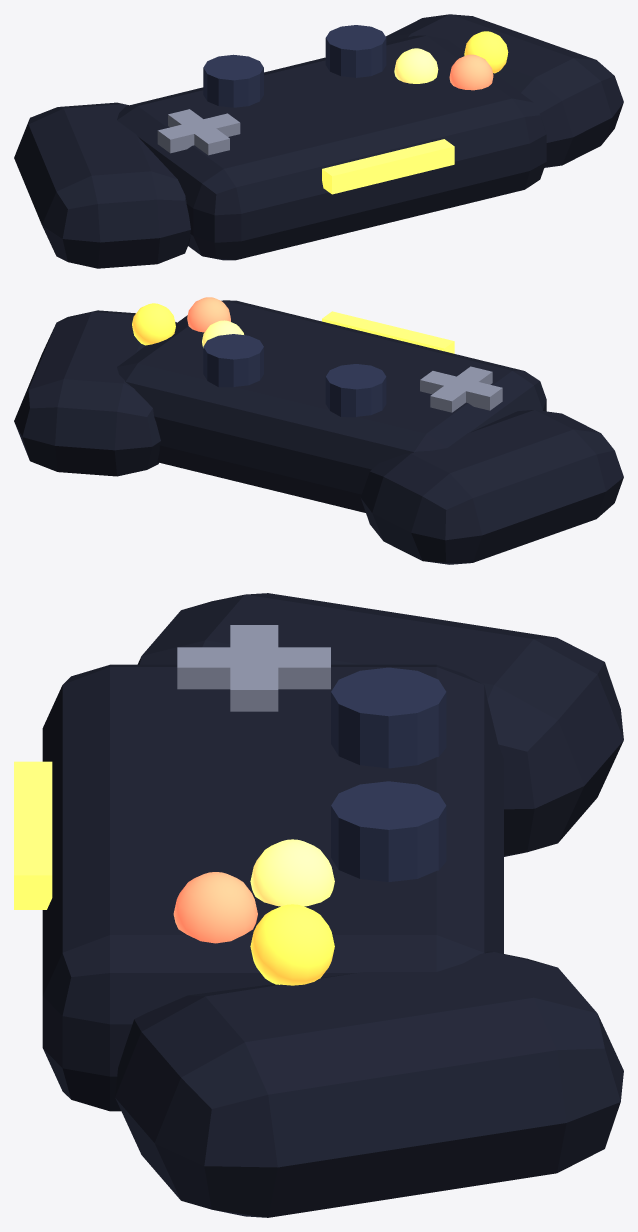
File: game_controller.glb
3 views of the same model, one above another, from view 1: azimuth 30°, elevation 25°; view 2: azimuth 150°, elevation 25°; view 3: azimuth 270°, elevation 25° (orthographic). The views are drawn at different scales.
Parts seen in each view (by area): view 1: body, grip-1, grip1, lightbar, stick1, stick-1, dpadH, dpadV, btnC, btnA, btnB; view 2: body, grip-1, grip1, stick-1, stick1, lightbar, dpadH, btnB, dpadV, btnA, btnC; view 3: body, grip1, grip-1, stick-1, stick1, lightbar, btnB, dpadV, btnA, btnC, dpadH.
Part boxes in pixels (box(x1,y1,x2,y2)): body: box(117, 35, 546, 260); grip-1: box(14, 102, 190, 268); grip1: box(385, 14, 623, 167); lightbar: box(322, 139, 454, 194); stick1: box(325, 25, 386, 77); stick-1: box(203, 54, 263, 107); dpadH: box(157, 113, 240, 153); dpadV: box(168, 109, 229, 155); btnC: box(394, 48, 438, 83); btnA: box(449, 54, 493, 90); btnB: box(464, 31, 508, 73); body: box(117, 300, 546, 512); grip-1: box(360, 410, 623, 564); grip1: box(14, 310, 176, 476); stick-1: box(325, 364, 386, 417); stick1: box(203, 334, 263, 387); lightbar: box(322, 311, 454, 353); dpadH: box(420, 371, 502, 410); btnB: box(132, 303, 175, 345); dpadV: box(430, 366, 492, 412); btnA: box(187, 297, 230, 332); btnC: box(202, 320, 243, 347); body: box(42, 664, 503, 1111); grip1: box(115, 951, 623, 1217); grip-1: box(137, 593, 623, 856); stick-1: box(331, 667, 446, 768); stick1: box(331, 781, 446, 882); lightbar: box(14, 761, 52, 909); btnB: box(250, 904, 334, 985); dpadV: box(177, 647, 330, 689); btnA: box(173, 872, 257, 943); btnC: box(250, 839, 334, 906); dpadH: box(230, 625, 278, 711).
Size of the model in its own units: 0.6452 by 0.14 by 0.3174.
